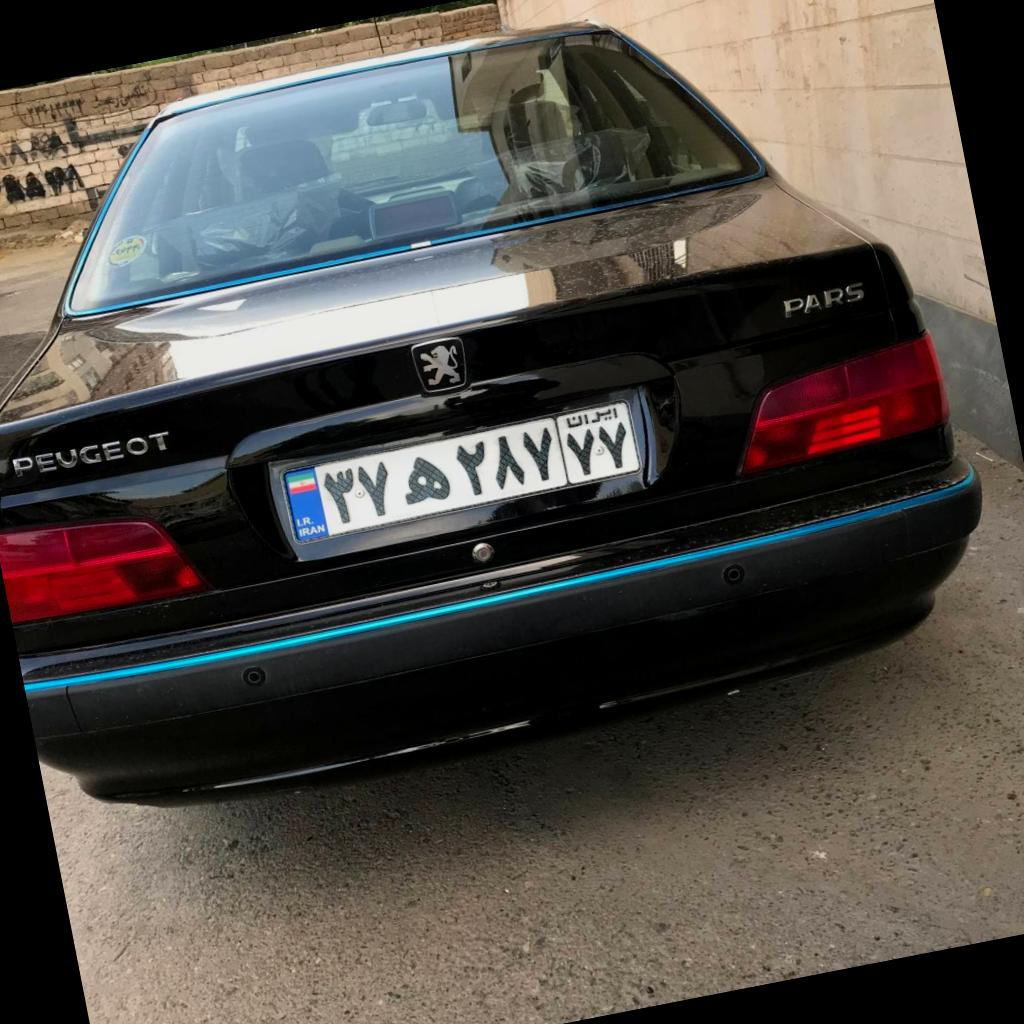Plates: (281, 401, 643, 543)
